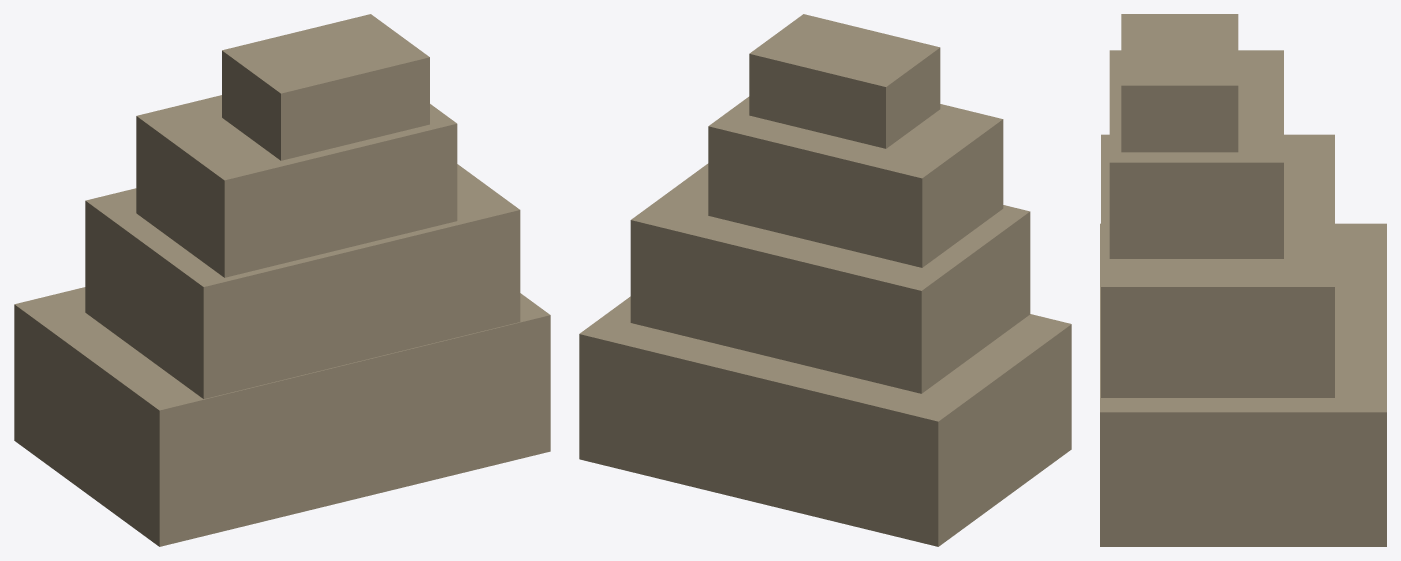
The model's file is prop_flank.glb.
The picture shows the model from 3 angles, left to right: view 1: azimuth 30°, elevation 25°; view 2: azimuth 150°, elevation 25°; view 3: azimuth 270°, elevation 25°; orthographic projection. The views are drawn at different scales.
Parts seen in each view (by area): view 1: body_berm; view 2: body_berm; view 3: body_berm.
Boxes of the visible parts, x1,y1,x2,y2 form: body_berm: [14, 14, 550, 546]; body_berm: [579, 14, 1071, 546]; body_berm: [1100, 14, 1386, 546].
Size of the model in its own units: 2.1 by 2.12 by 1.35.
